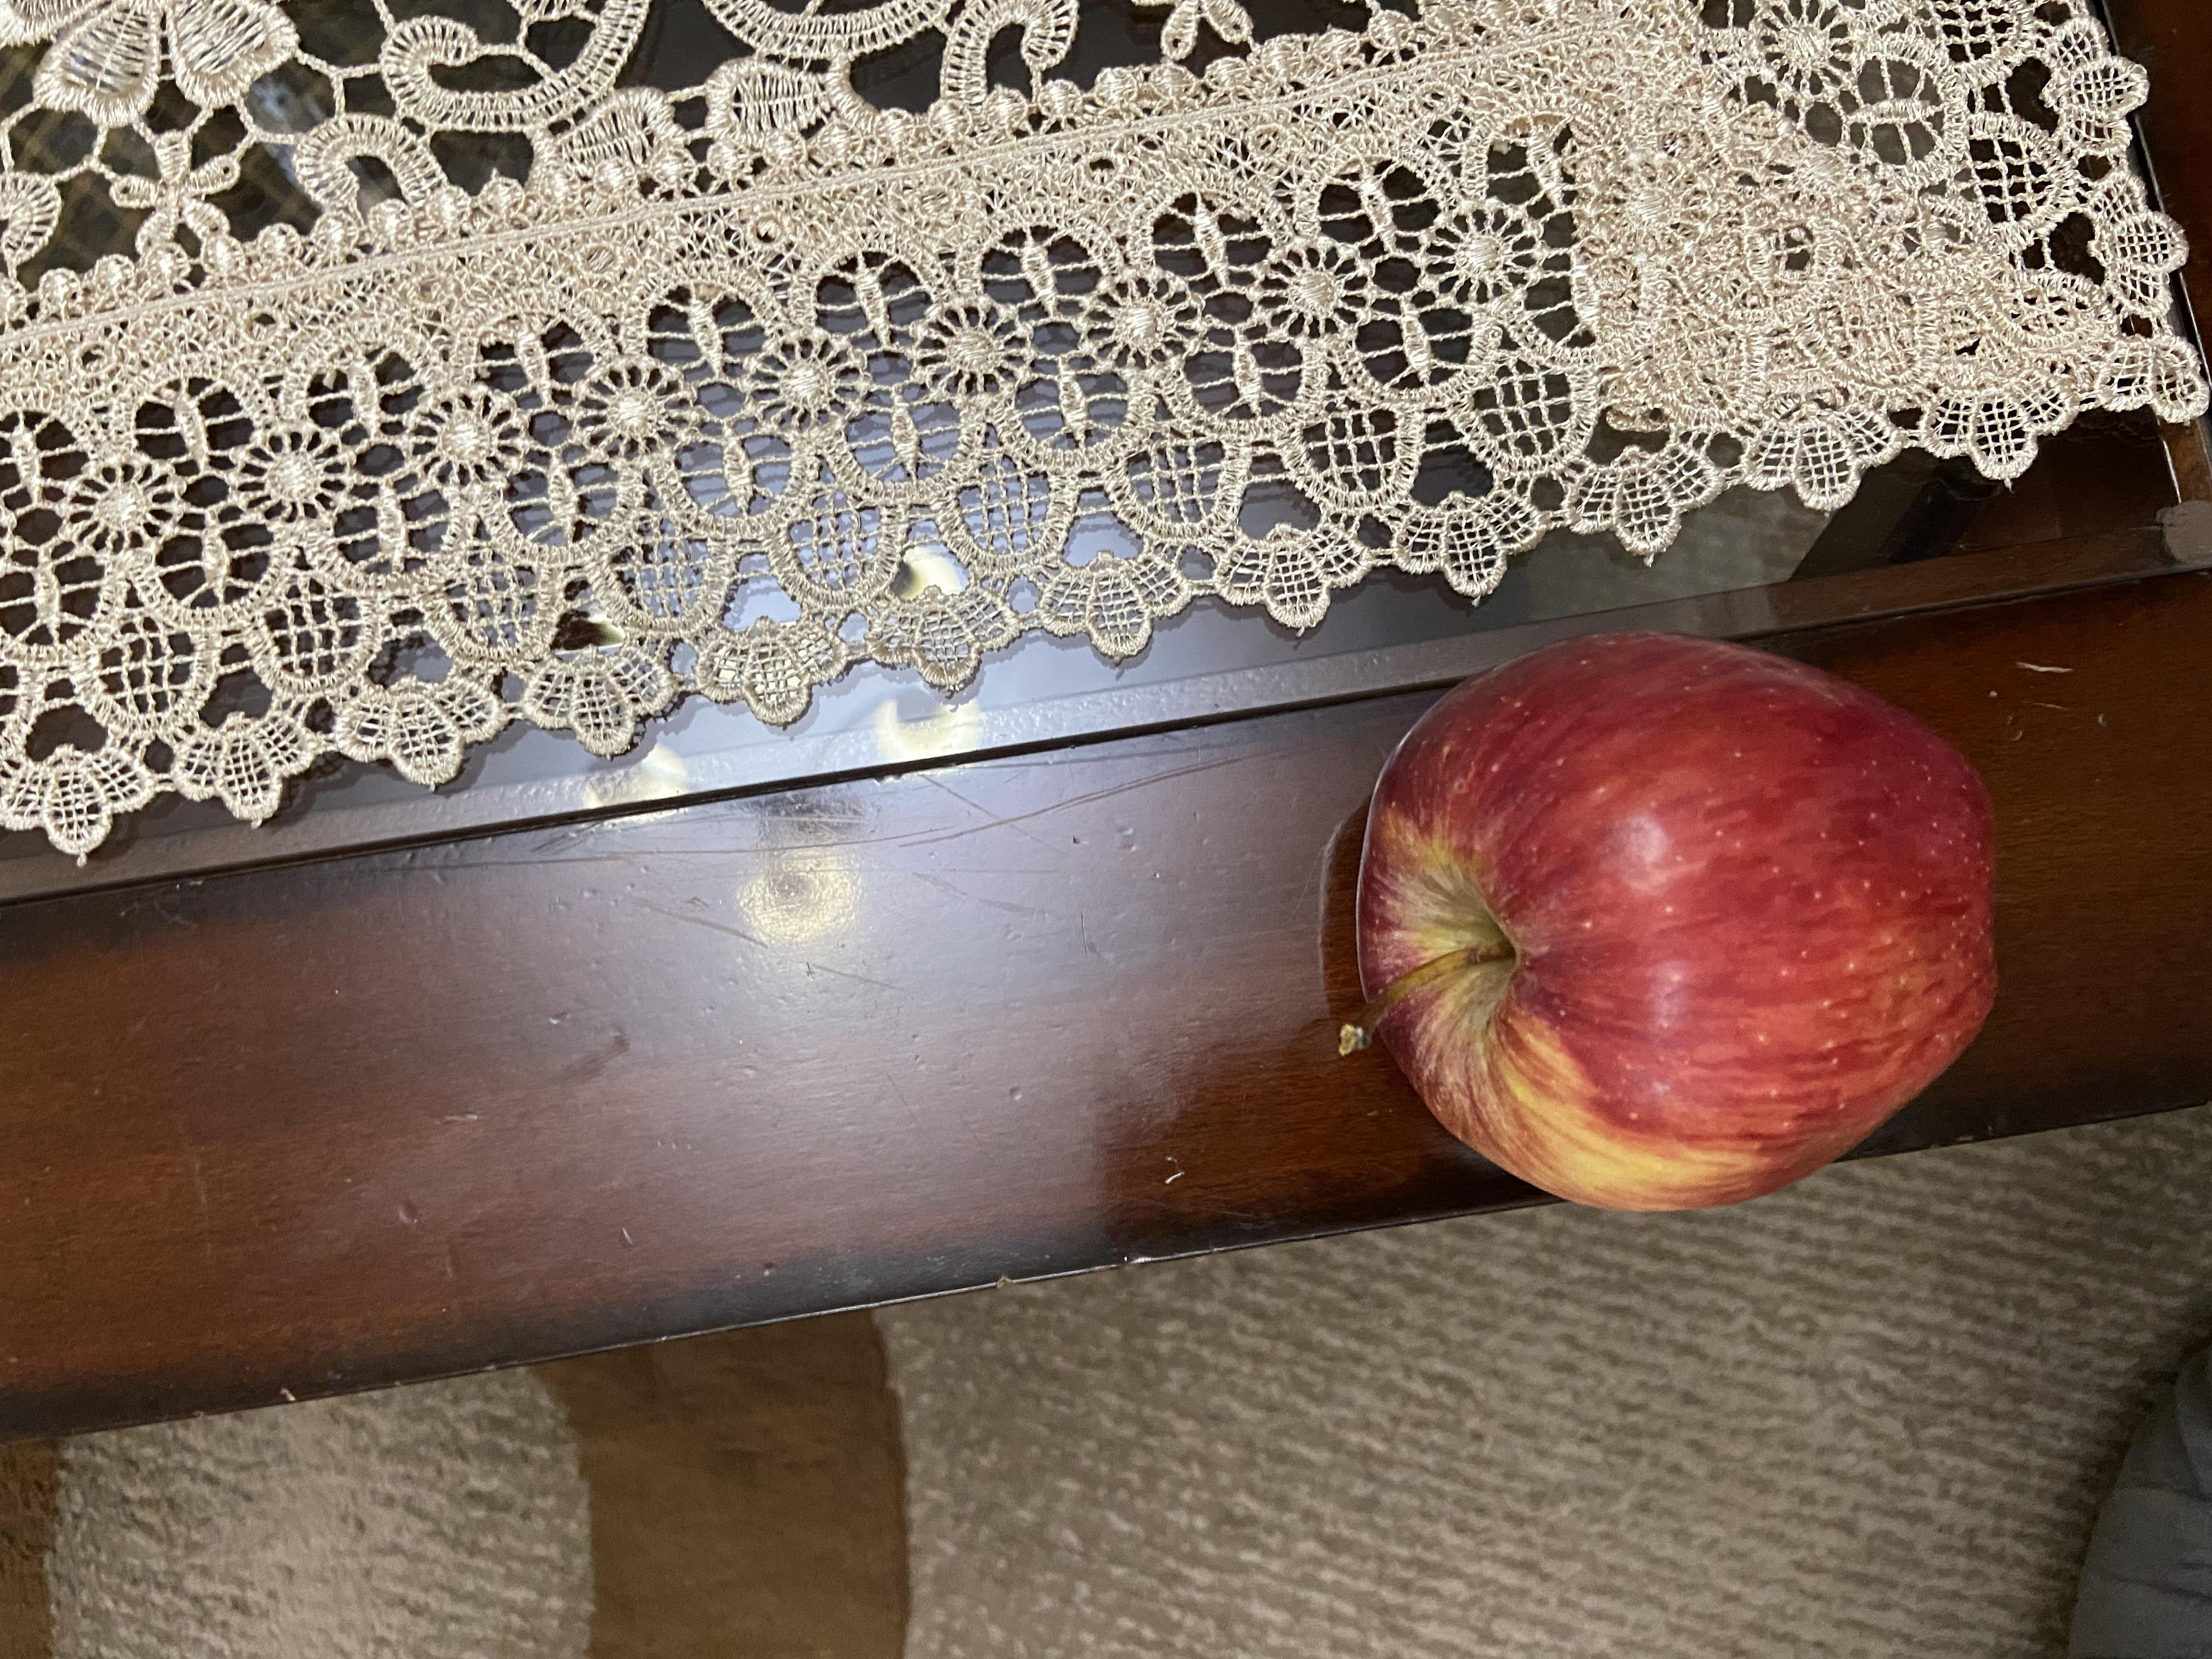Apple: (195, 434, 911, 1032)
